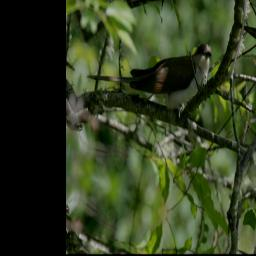Cuckoo: (85, 0, 213, 137)
